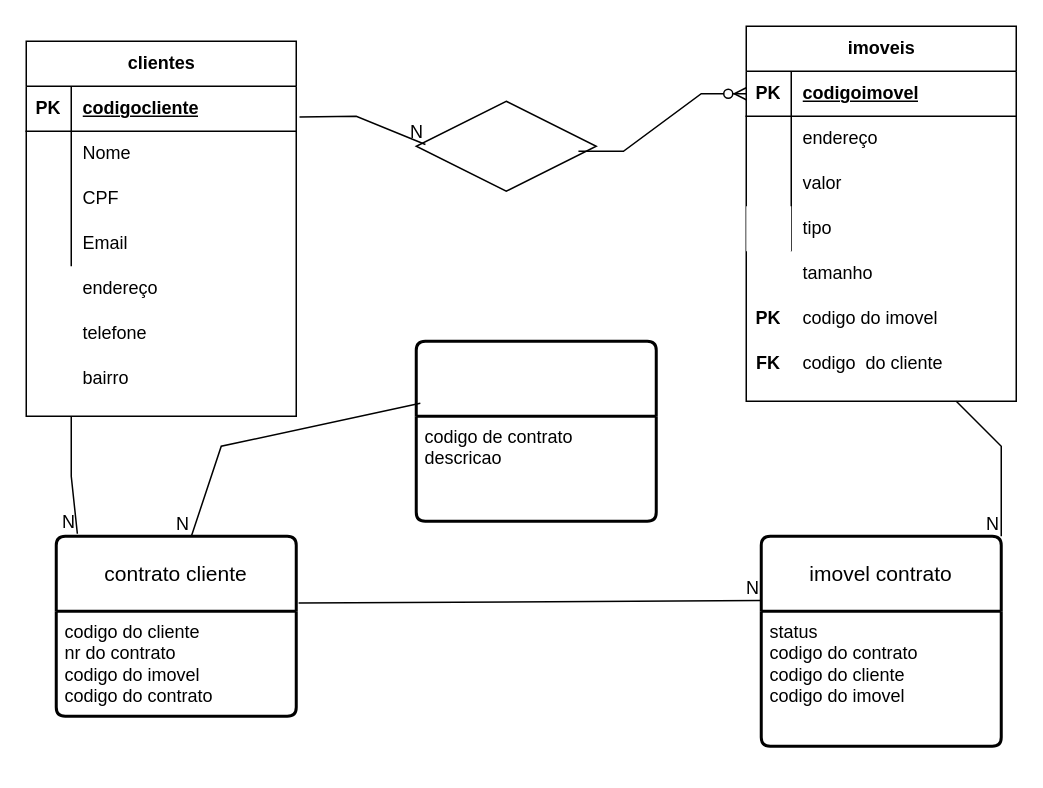
The diagram is 1043 pixels wide and 788 high, and some of its shapes have lost their labels. Each missing label, with the box of its shape:
possui: (415, 100, 596, 191)
tipo de contratos: (414, 339, 657, 522)
